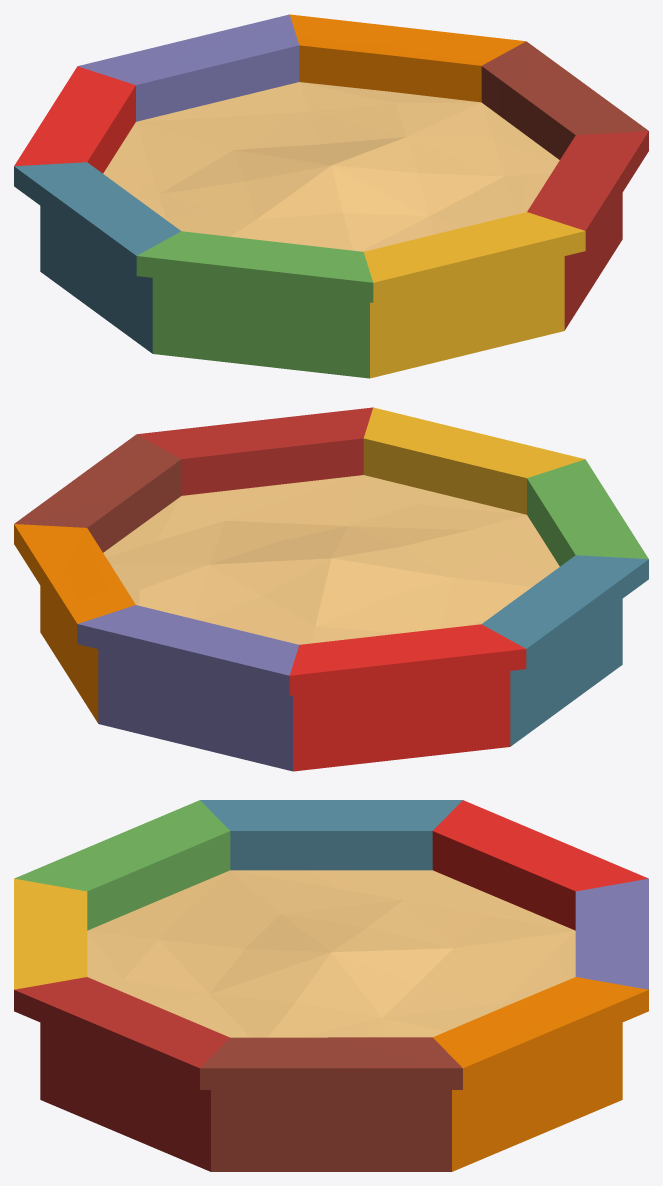
Rendered from Playground_02.fbx.
3 renders of one model, top to bottom at view 1: azimuth 30°, elevation 25°; view 2: azimuth 150°, elevation 25°; view 3: azimuth 270°, elevation 25°, orthographic. The views are drawn at different scales.
Visible parts, largest first — view 1: Playground_02; view 2: Playground_02; view 3: Playground_02.
Part boxes in pixels (x1=…): Playground_02: x1=14, y1=14, x2=648, y2=378; Playground_02: x1=14, y1=407, x2=648, y2=771; Playground_02: x1=14, y1=800, x2=648, y2=1171.
Size of the model in its own units: 134 by 26.78 by 134.
